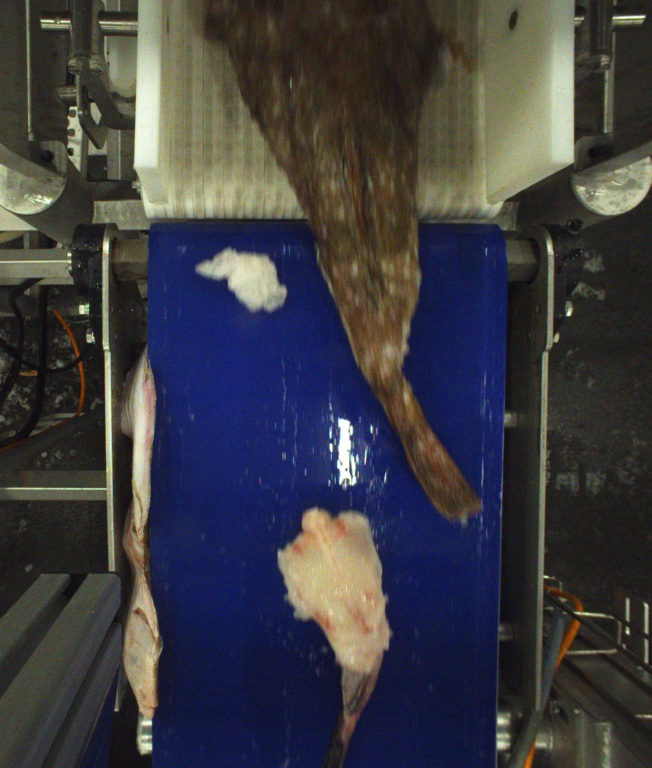ANF: (203, 0, 484, 520)
